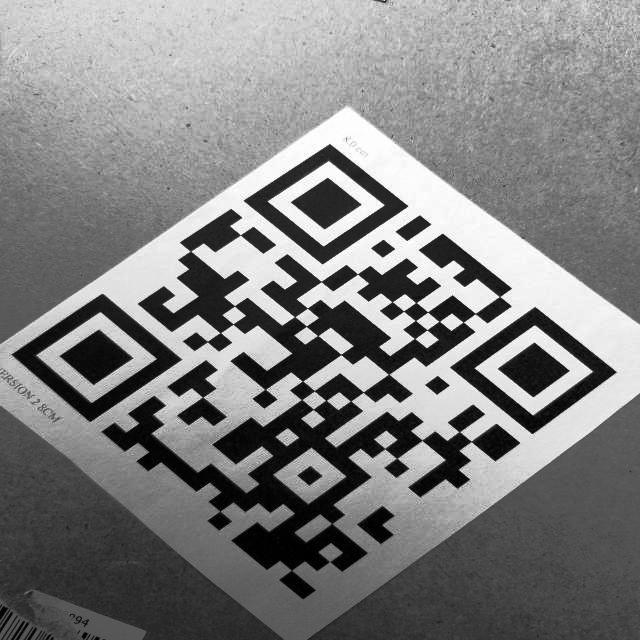qr_code: (4, 131, 631, 608)
